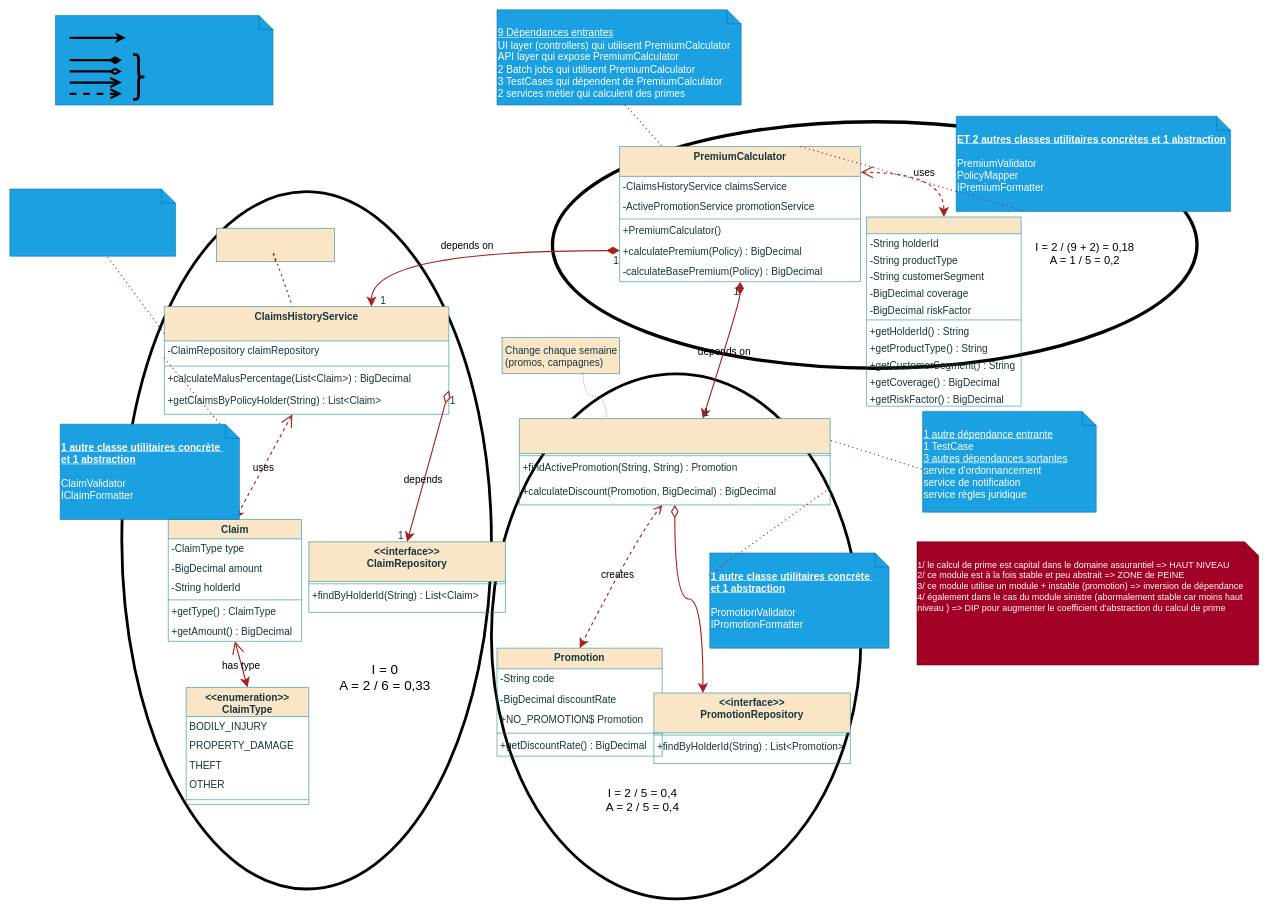
Image size: 1268x910. Some labels were removed from this diagram. Each missing label, with the box of its shape:
2 autres dépendances entrantes 1 TestCase 1 Service de Report: (9, 188, 176, 256)
ActivePromotionService: (519, 418, 830, 505)
Change tous les 3 mois (nouvelles lois, règles): (216, 228, 335, 262)
graphe de dépendances niveaux d'association: (55, 15, 273, 105)
Policy: (866, 216, 1021, 406)
